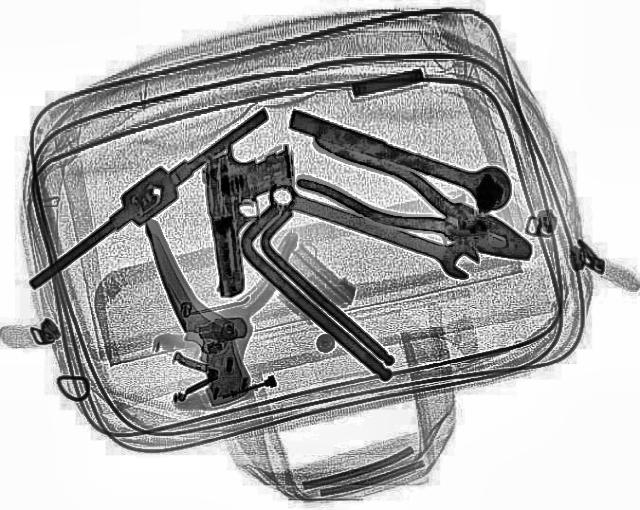Gun: (193, 139, 314, 298)
Pliers: (278, 128, 552, 280)
Wrench: (258, 170, 488, 282)
